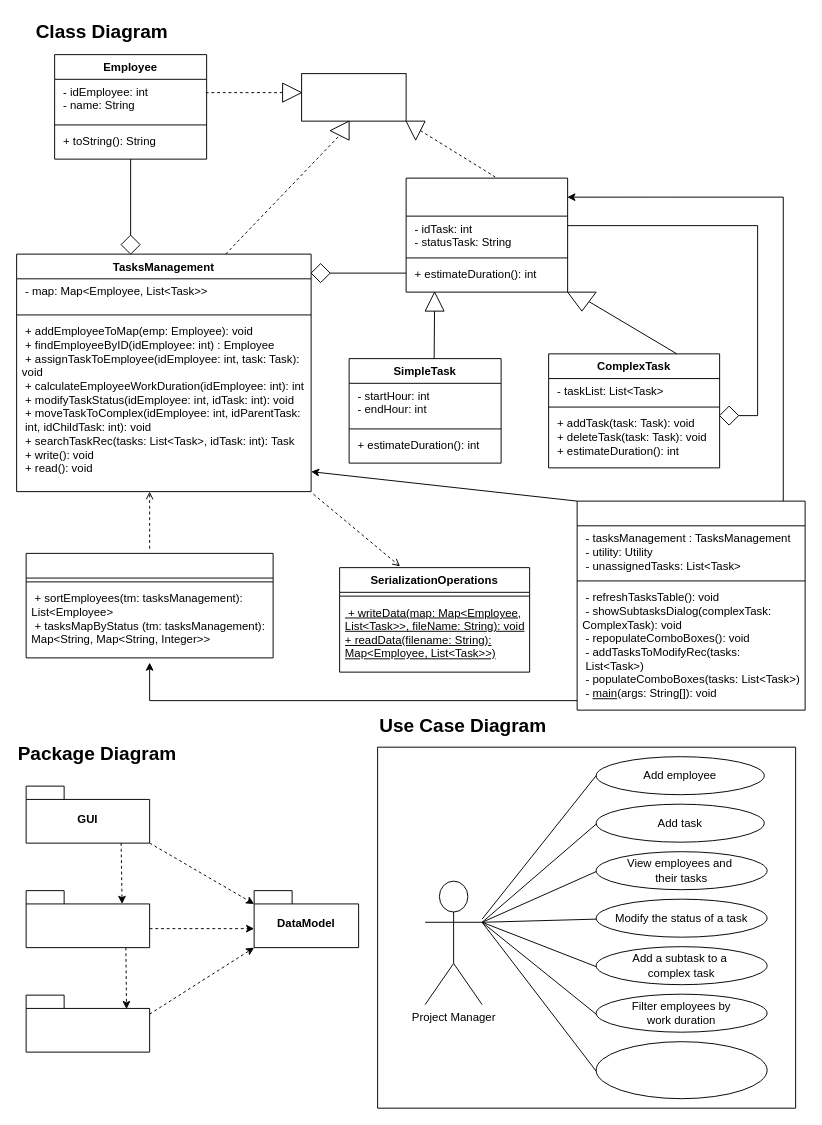
Some shapes in this 822 by 1125 pixel diagram are drawn without their labels. The box of each missing label's shape, as (x1, y1, x2, y2) in pixels:
<<abstract>> Task: (405, 177, 568, 292)
BusinessLogic: (25, 890, 150, 948)
Compute the number of completed/uncompleted tasks: (595, 1041, 767, 1099)
DataAccess: (25, 994, 150, 1052)
TasksManagementDashboard: (576, 500, 805, 710)
U tility: (25, 552, 273, 658)
«interface» Serializable: (301, 73, 406, 121)
